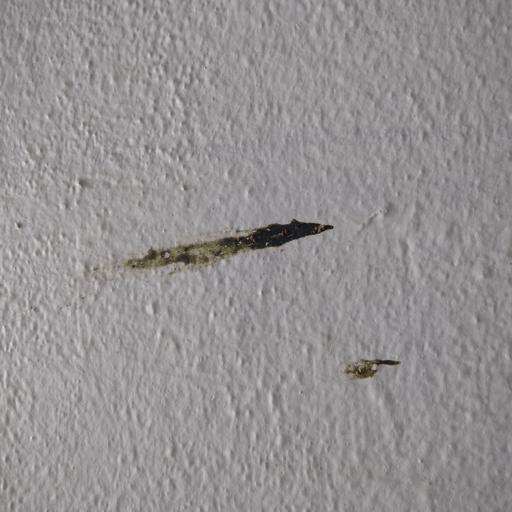stain: (114, 187, 350, 329), (338, 339, 408, 383)
